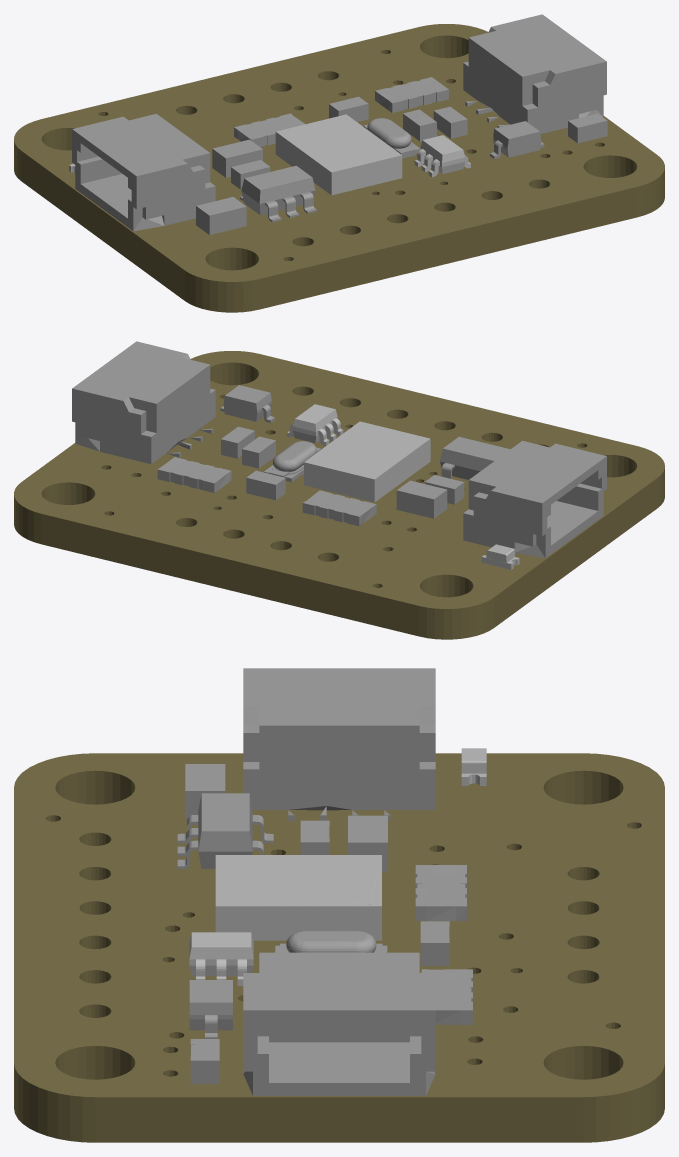
File: adafruit-4646-bno055.glb
3 views of the same model, one above another, from view 1: azimuth 30°, elevation 25°; view 2: azimuth 150°, elevation 25°; view 3: azimuth 270°, elevation 25° (orthographic). The views are drawn at different scales.
Parts seen in each view (by area): view 1: colour 1, colour 3, colour 2, colour 4; view 2: colour 1, colour 3, colour 2, colour 4; view 3: colour 1, colour 3, colour 2, colour 4.
Boxes of the visible parts, bbox=[...] form: colour 1: bbox=[14, 24, 664, 312]; colour 3: bbox=[72, 14, 607, 234]; colour 2: bbox=[69, 114, 402, 195]; colour 4: bbox=[414, 135, 470, 177]; colour 1: bbox=[14, 351, 664, 639]; colour 3: bbox=[72, 341, 606, 558]; colour 2: bbox=[304, 421, 519, 569]; colour 4: bbox=[287, 404, 343, 446]; colour 1: bbox=[14, 753, 664, 1142]; colour 3: bbox=[177, 668, 472, 1095]; colour 2: bbox=[215, 748, 486, 940]; colour 4: bbox=[189, 932, 253, 985].
Bounding box in the file's own units: 0.0254 × 0.00453 × 0.0203.
